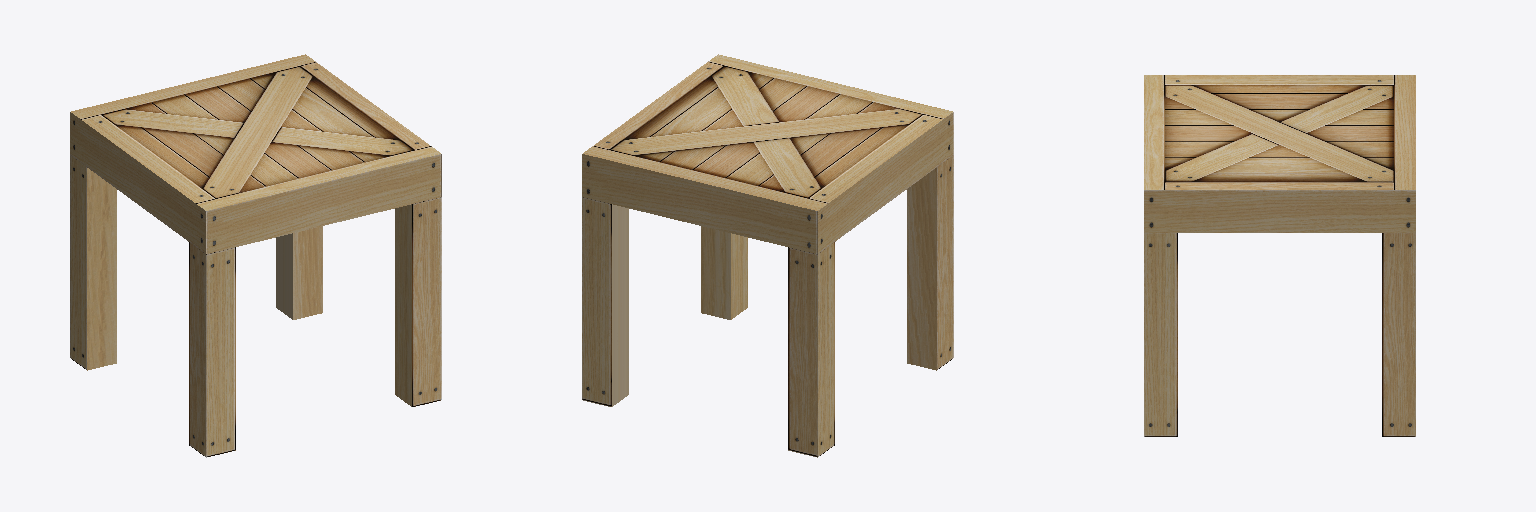
The picture shows the model from 3 angles: view 1: azimuth 30°, elevation 25°; view 2: azimuth 150°, elevation 25°; view 3: azimuth 270°, elevation 25°; orthographic projection.
Visible parts, largest first — view 1: Cube; view 2: Cube; view 3: Cube.
Part boxes in pixels (left/top/right/bottom): Cube: left=70, top=54, right=441, bottom=457; Cube: left=582, top=54, right=953, bottom=457; Cube: left=1144, top=75, right=1415, bottom=436.
Bounding box in the file's own units: 2 × 2 × 2.
1 materials, 1 textured.